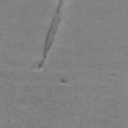finishing roll printing: (32, 0, 58, 60), (56, 66, 62, 74)
